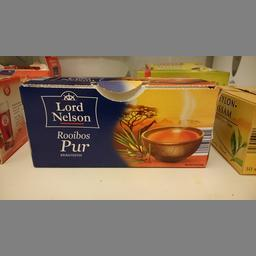tea: (18, 74, 216, 168)
